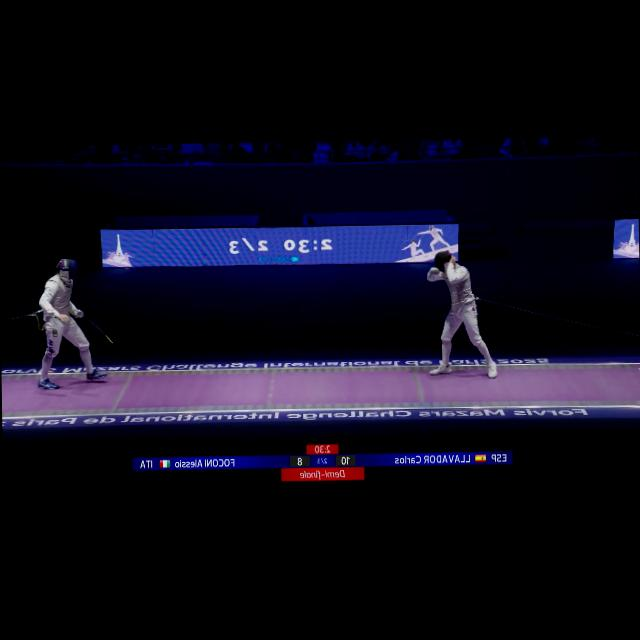blade: (70, 306, 116, 348), (424, 266, 472, 296)
